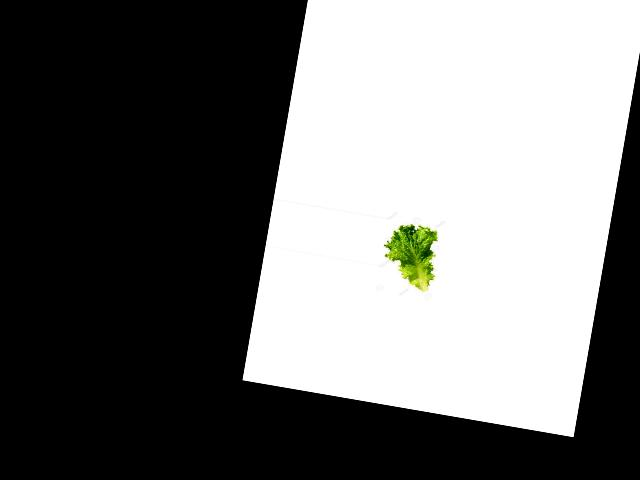lettuce: (378, 220, 439, 293)
